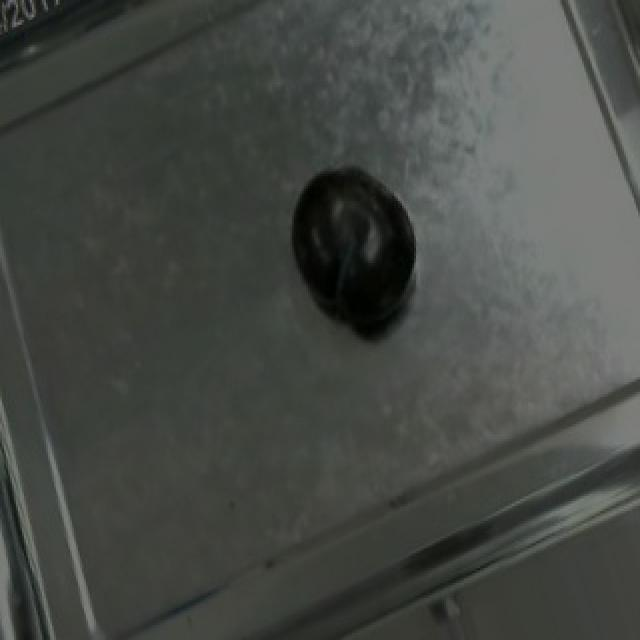Fruit: (272, 154, 426, 330)
